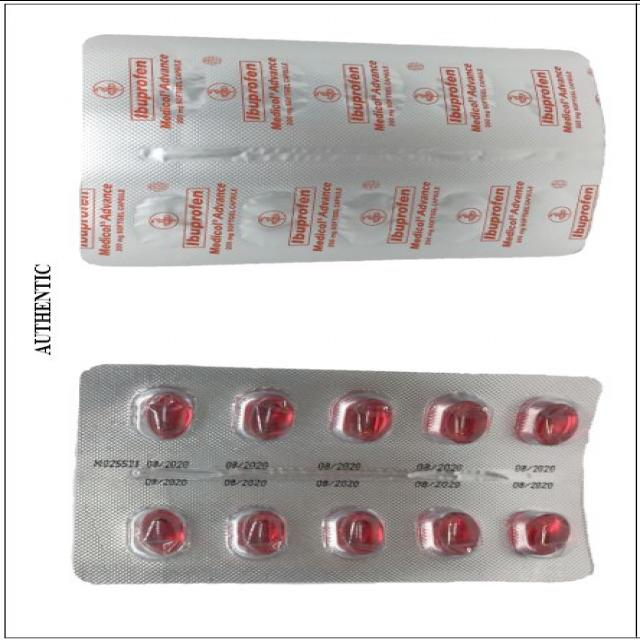authentic: (64, 367, 606, 590), (68, 45, 608, 268)
